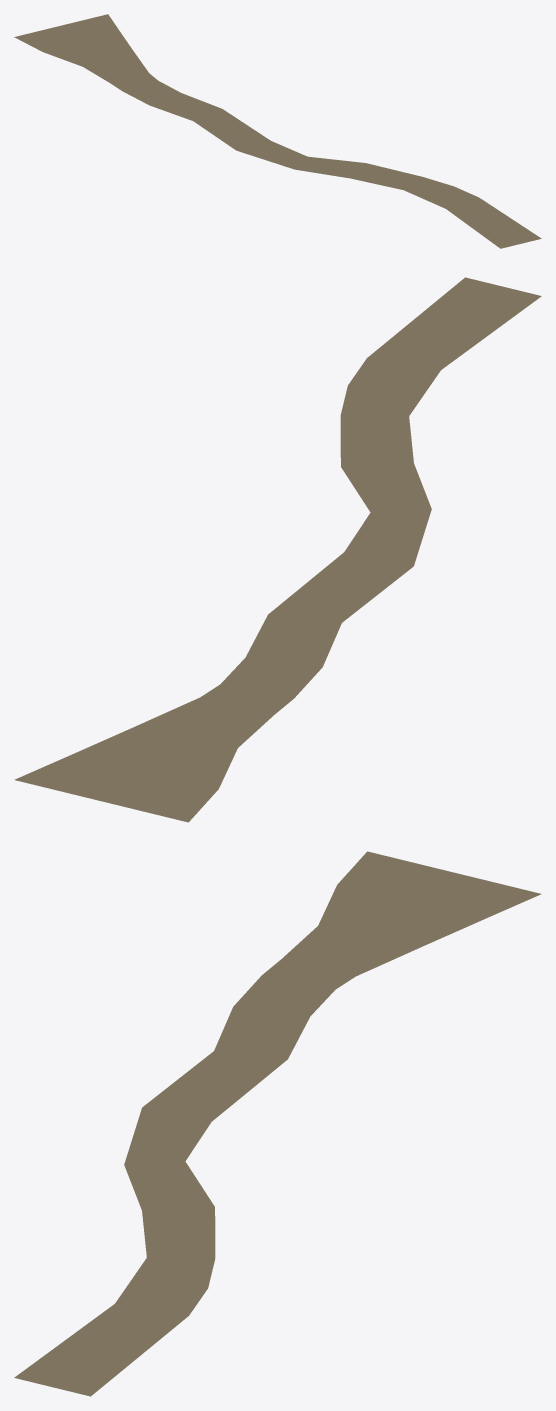
File: river.fbx
3 views of the same model, one above another, from view 1: azimuth 30°, elevation 25°; view 2: azimuth 150°, elevation 25°; view 3: azimuth 330°, elevation 25° (orthographic). The views are drawn at different scales.
Visible parts, largest first — view 1: pPlane3; view 2: pPlane3; view 3: pPlane3.
Boxes of the visible parts, bbox=[...] form: pPlane3: bbox=[14, 14, 541, 248]; pPlane3: bbox=[14, 277, 541, 822]; pPlane3: bbox=[14, 851, 541, 1396].
Bounding box in the file's own units: 2584 × 0.000119 × 8000.
